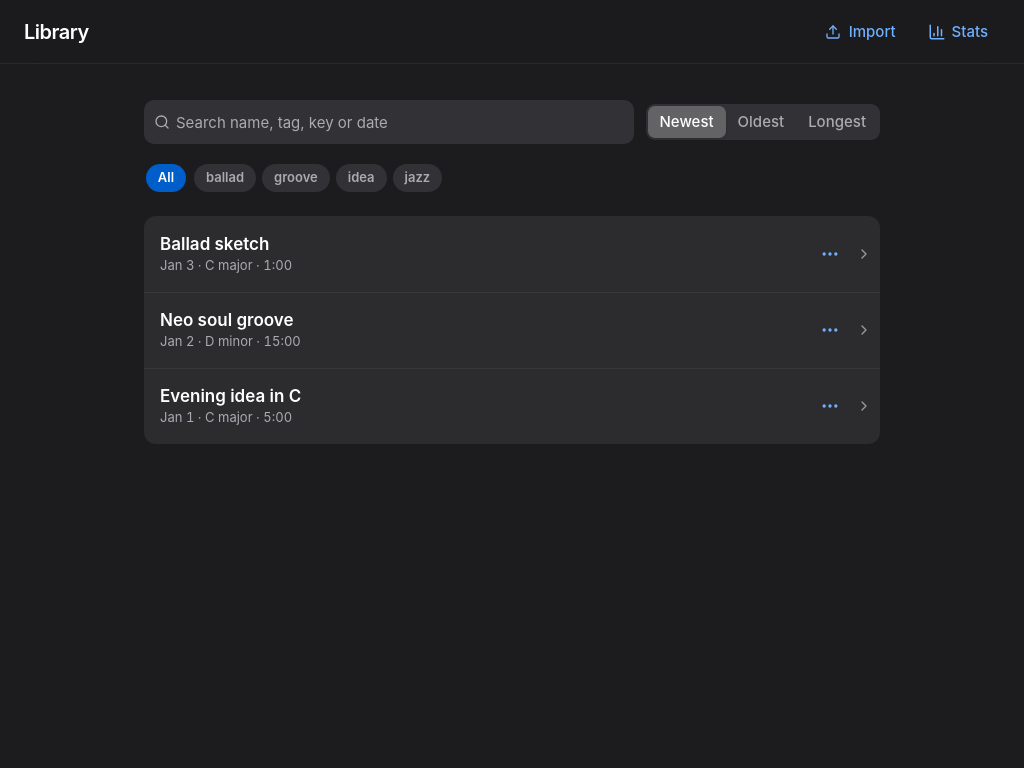
Test: LibraryScreen › row menu offers Share and the downloads; no share link without sync
The image size is (1024, 768).
Click the button named "More actions for Evening idea in C" at (830, 406), box 808,384 -> 852,428
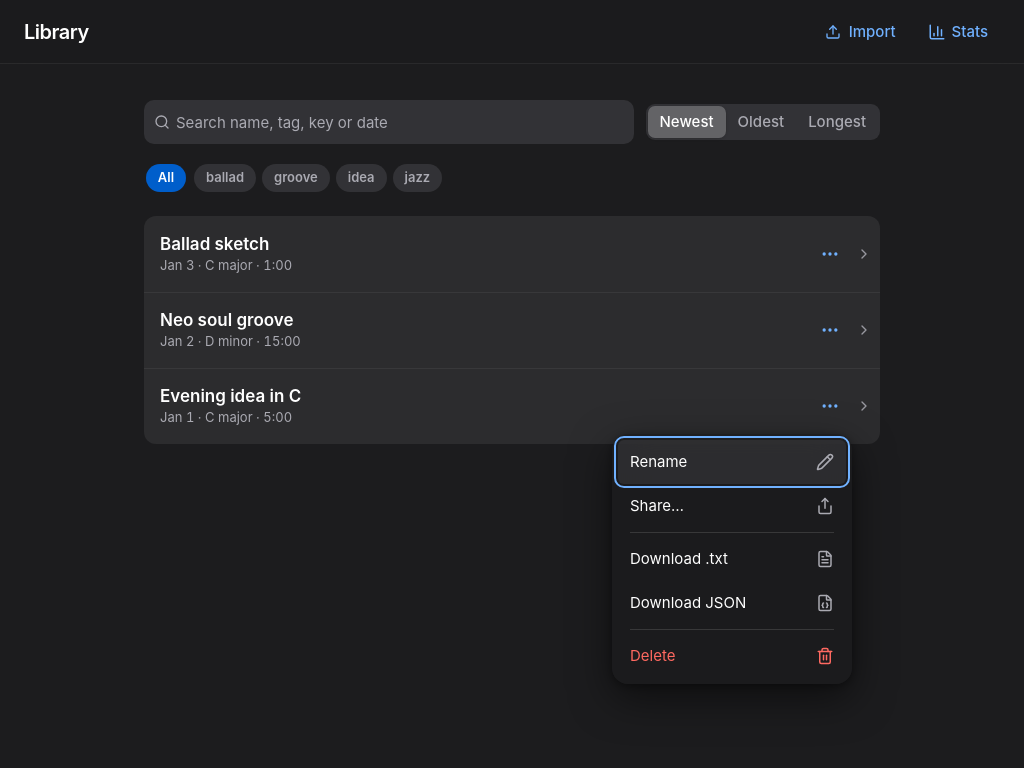
Now the menu items read "Rename", "Share…", "Download .txt", "Download JSON", "Delete", in this order, box 618,440 -> 846,484; 618,484 -> 846,528; 618,537 -> 846,581; 618,581 -> 846,625; 618,634 -> 846,678
Press Escape
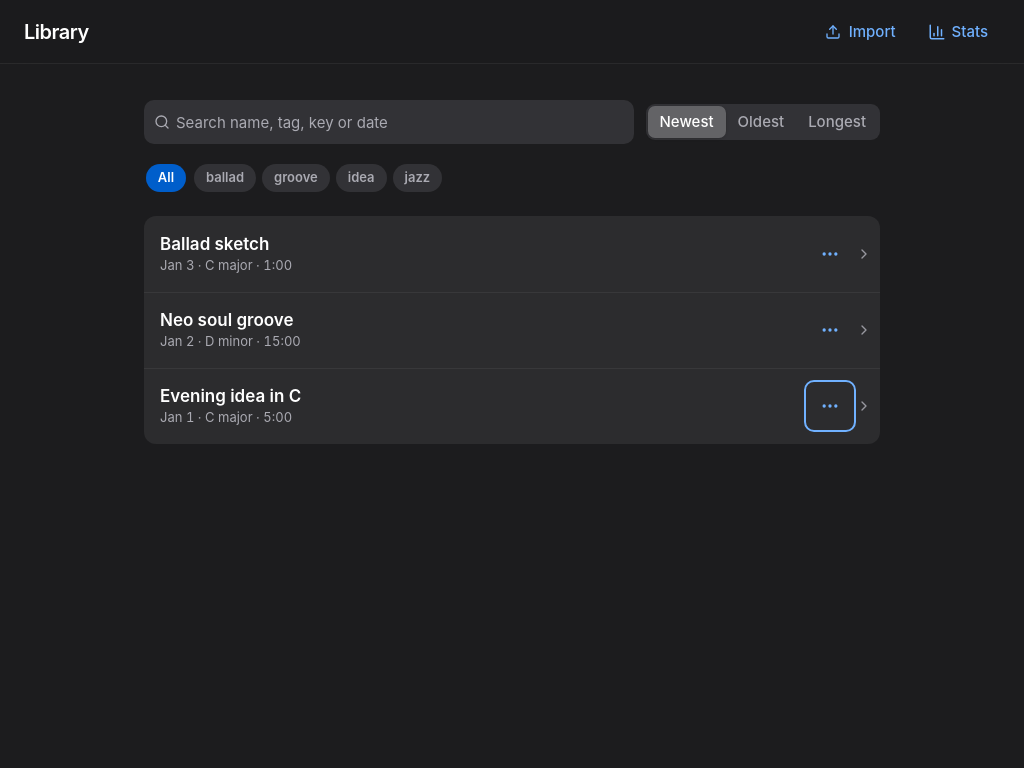
Now the menu is gone
